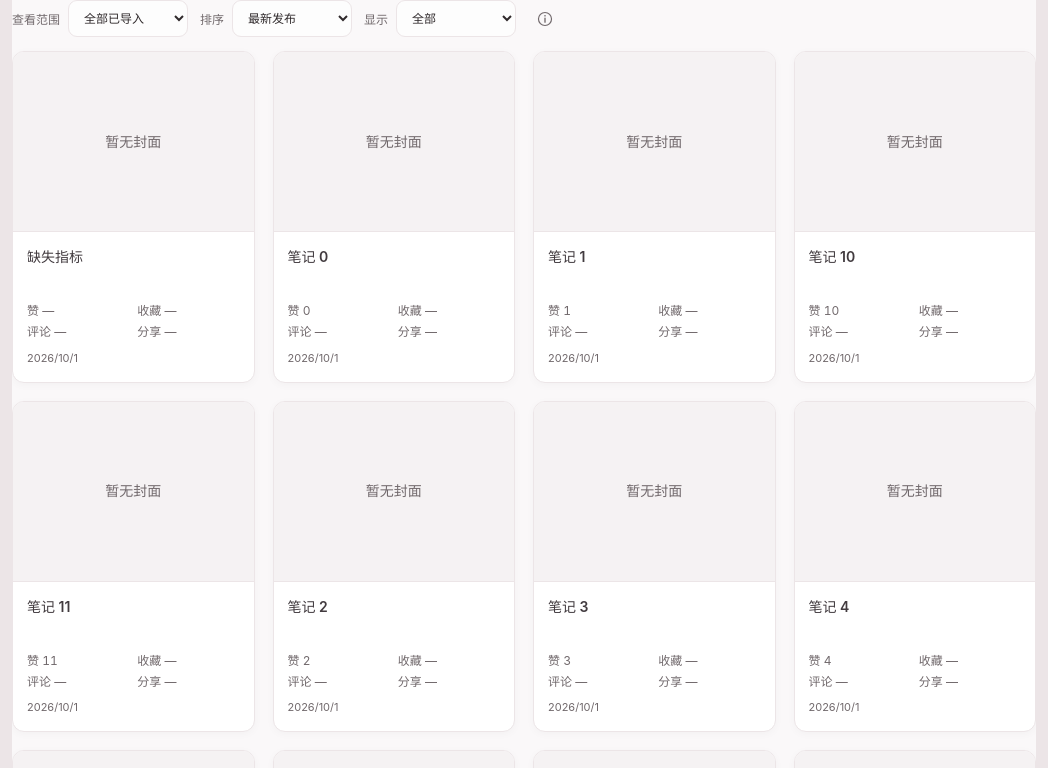
Test case: keeps negative or unknown metrics absent in the card and supports top N browsing
Select "点赞最高" in the dropdown labelled "排序" at (292, 18), box [232,0,352,37]
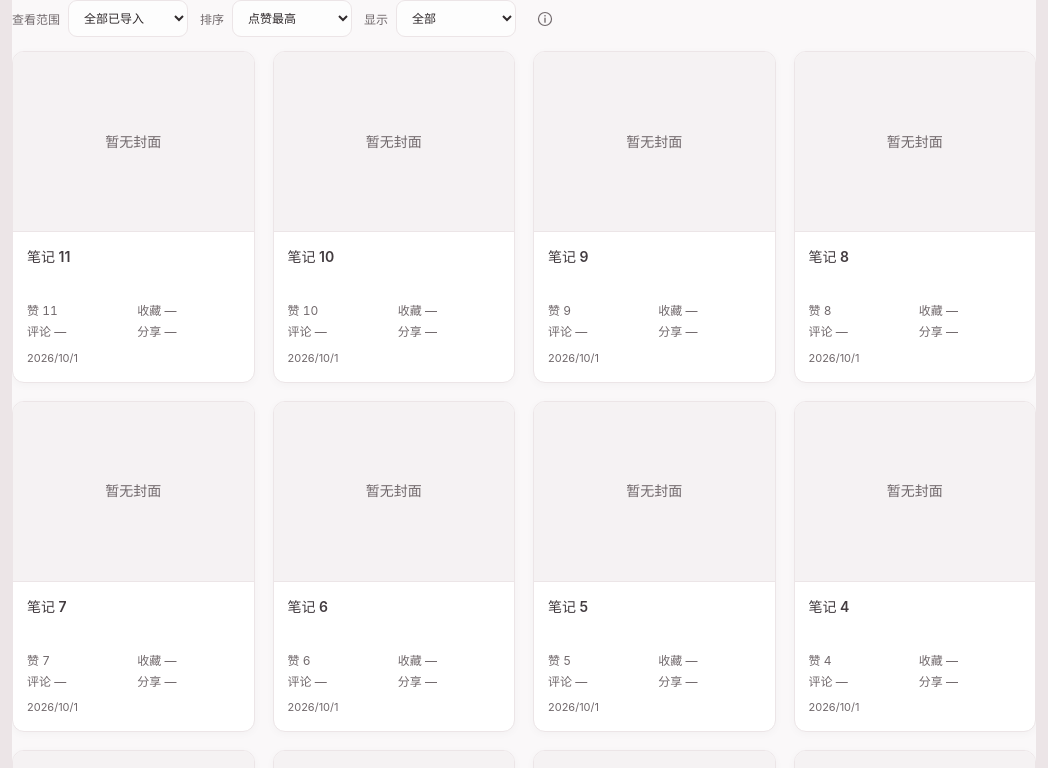
Select "前 10 篇" in the dropdown labelled "显示" at (456, 18), box [396,0,516,37]
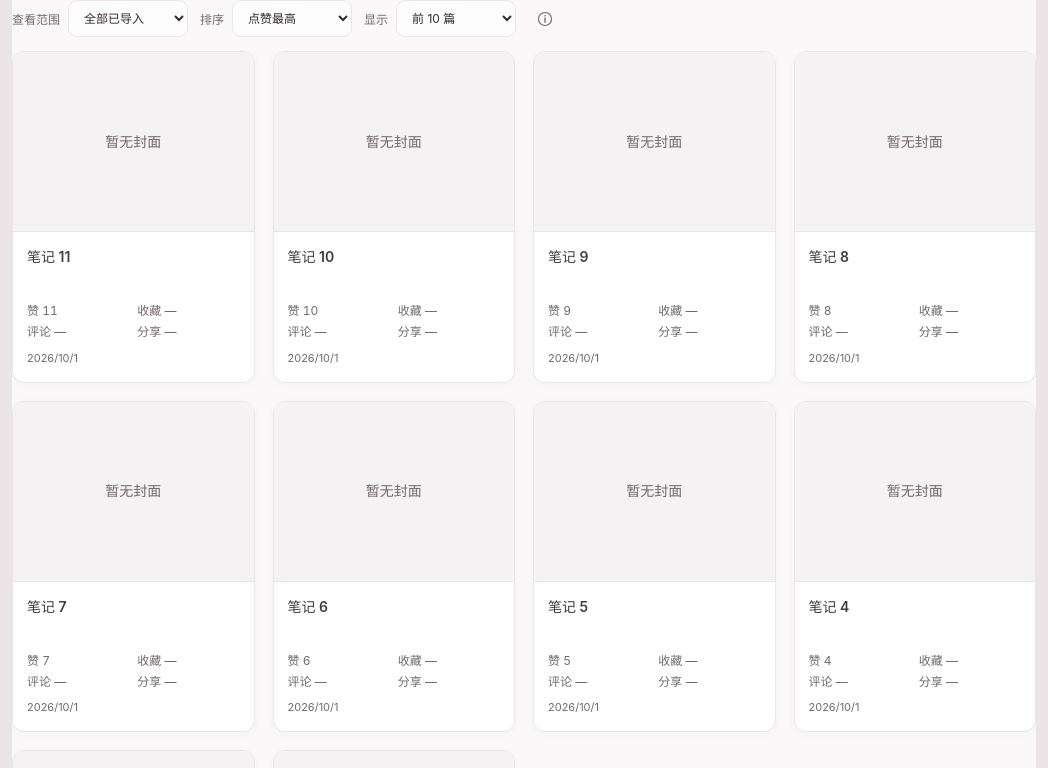
Expected: the element showing "暂无封面 笔记 11 赞 11 收藏 — 评论 — 分享 — 2026/10/1" is shown, [12,51,254,382]
Expected: the text "缺失指标" is not shown
Select "全部" in the dropdown labelled "显示" at (456, 18), box [396,0,516,37]
(page scrolled)
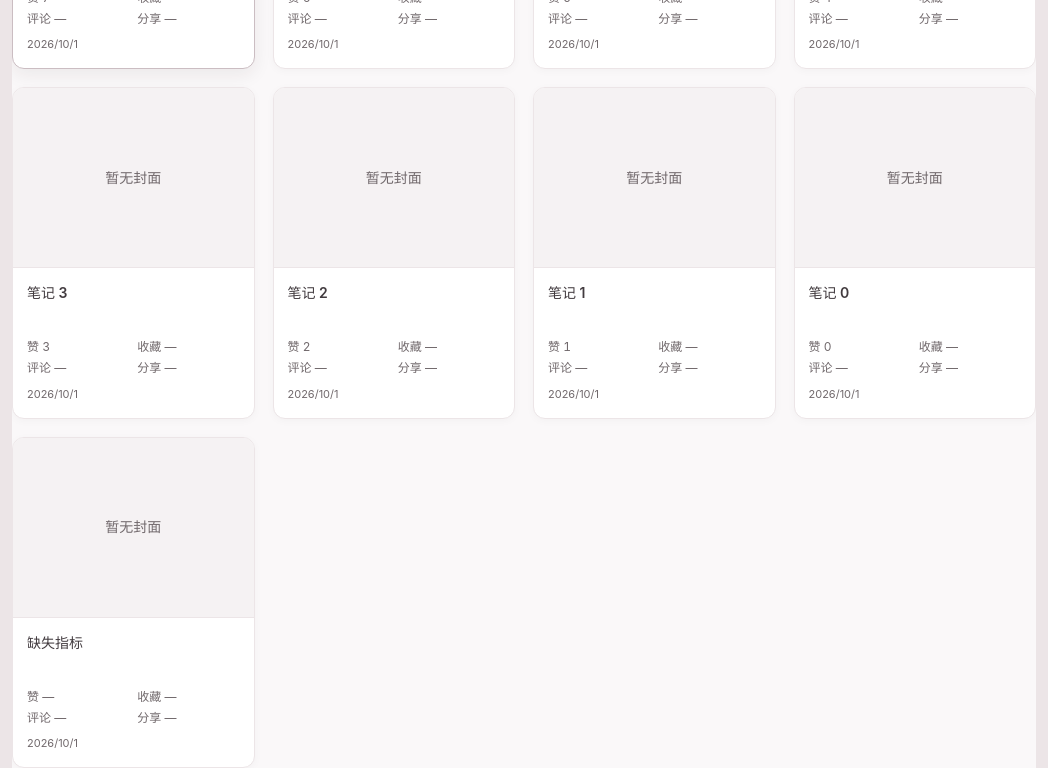
Expected: the button "暂无封面 缺失指标 赞 — 收藏 — 评论 — 分享 — 2026/10/1" is shown, [12,437,254,767]
